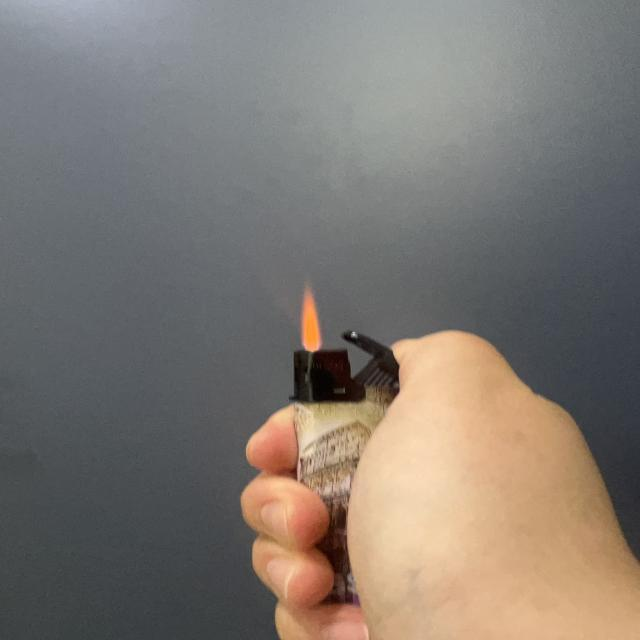fire: (297, 282, 323, 350)
